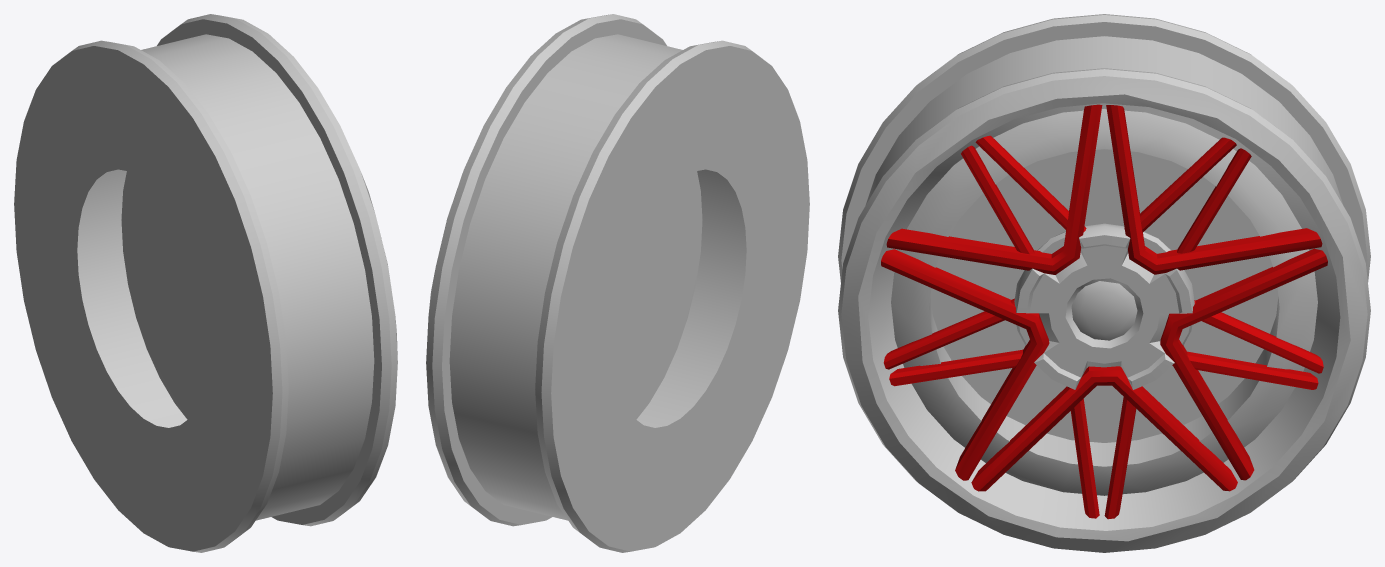
File: Ring_1.fbx
3 renders of one model, left to right at view 1: azimuth 30°, elevation 25°; view 2: azimuth 150°, elevation 25°; view 3: azimuth 270°, elevation 25°, orthographic.
Visible parts, largest first — view 1: Ring_1; view 2: Ring_1; view 3: Ring_1.
Boxes of the visible parts, left/top/right/bottom form: Ring_1: left=14, top=14, right=397, bottom=552; Ring_1: left=426, top=14, right=809, bottom=552; Ring_1: left=838, top=14, right=1370, bottom=552.
Bounding box in the file's own units: 25.78 × 88.4 × 88.4.
